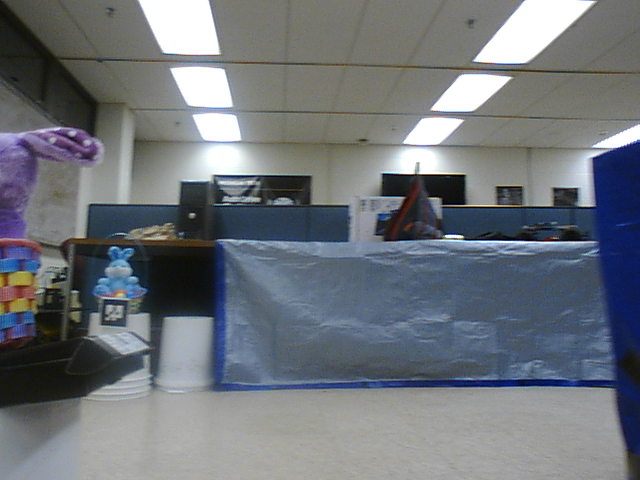bunny: (1, 125, 114, 349), (88, 229, 153, 313)
